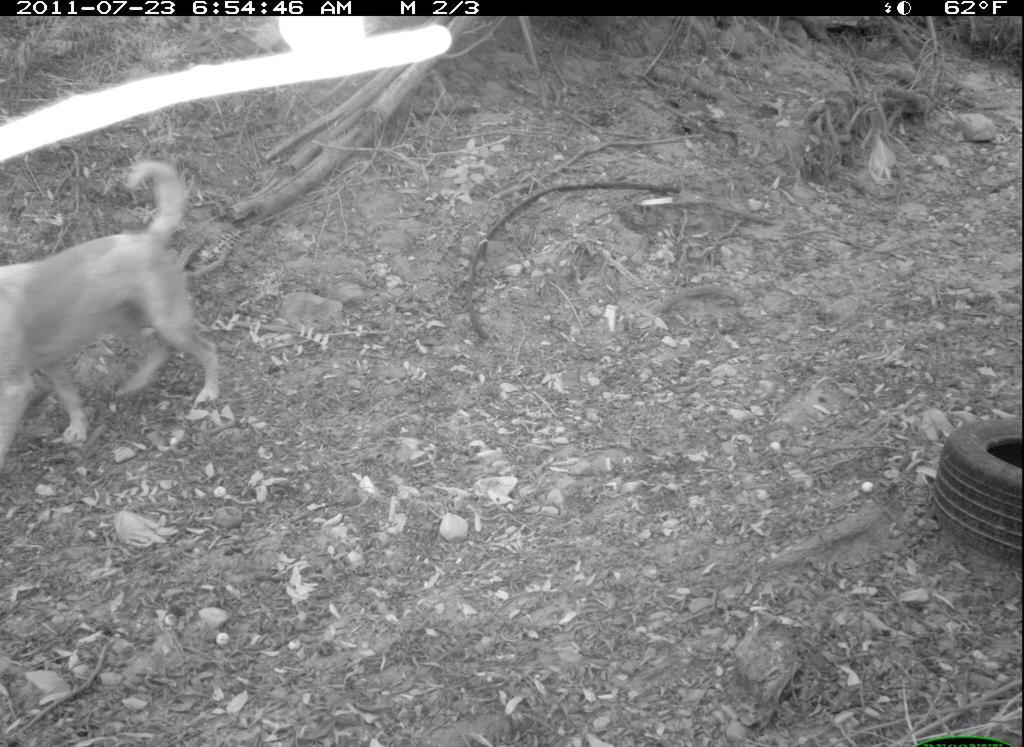dog: (2, 150, 232, 465)
